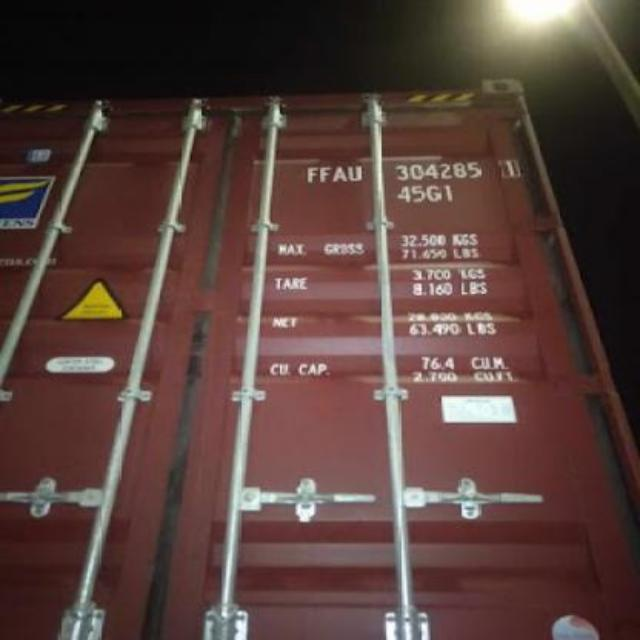0: (410, 162, 426, 182)
1: (504, 160, 516, 176)
2: (440, 163, 452, 181)
3: (396, 164, 412, 180)
4: (424, 163, 440, 179)
5: (466, 161, 482, 177)
8: (452, 161, 468, 179)
A: (332, 166, 348, 184)
F: (306, 166, 320, 184), (318, 166, 330, 184)
U: (346, 164, 364, 180)
